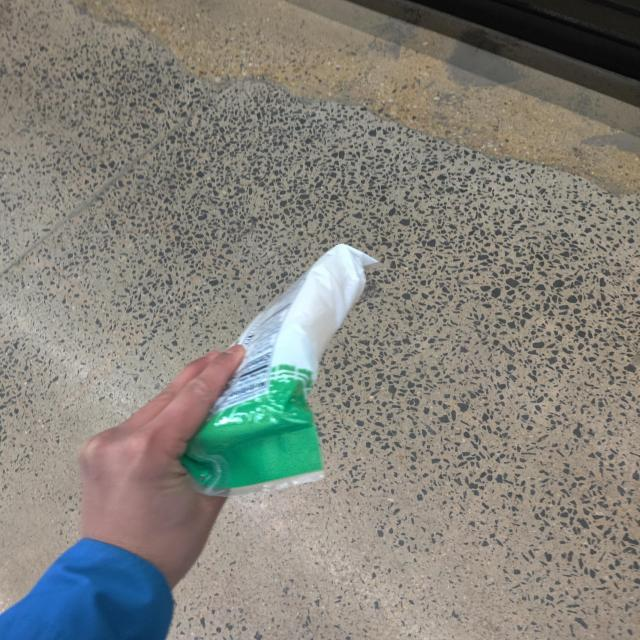Strawberry: (186, 247, 376, 495)
